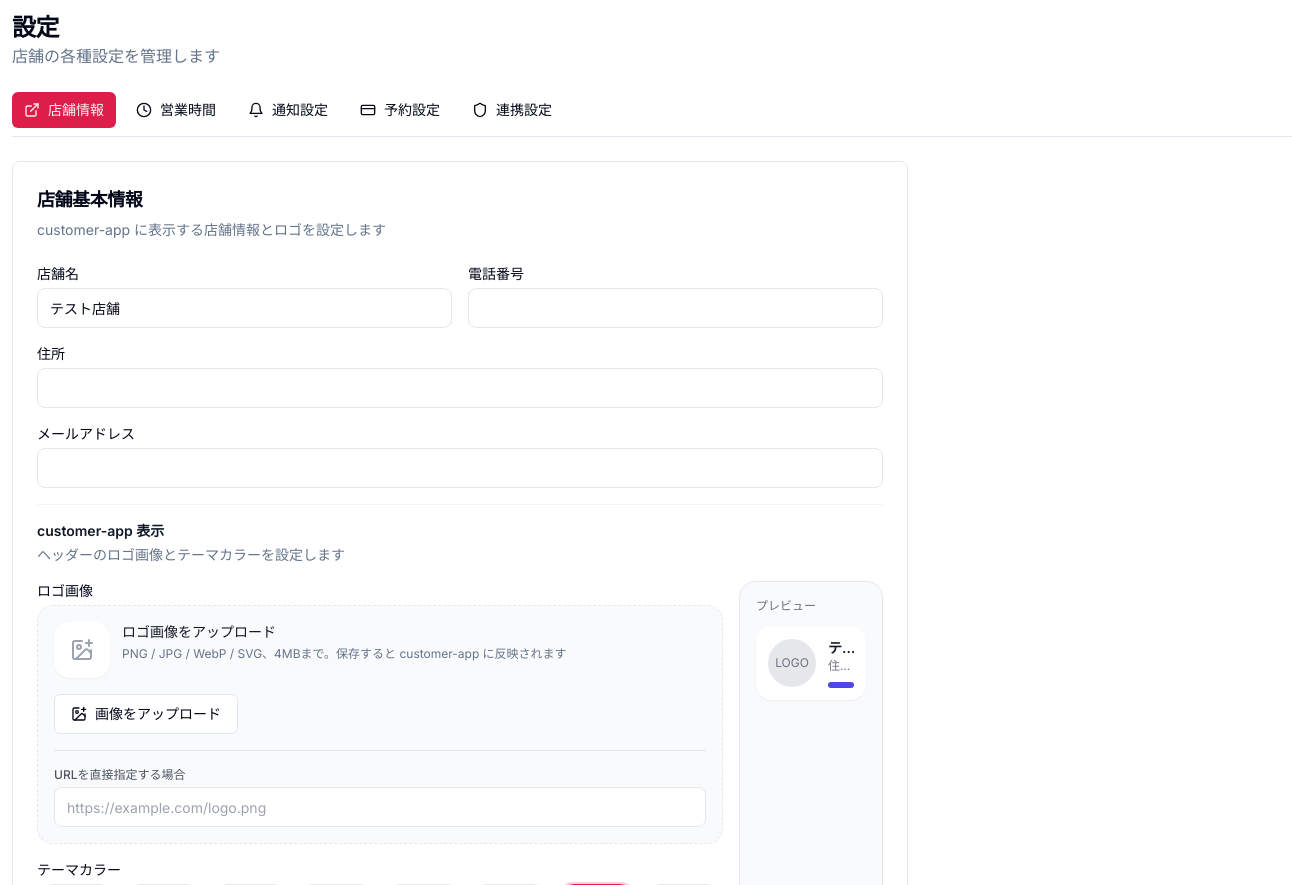
SettingsPage › 通知設定の保存失敗時にエラーバナーを表示する
The image size is (1292, 885).
Click the button "通知設定": (288, 110) left=236, top=92, right=340, bottom=128
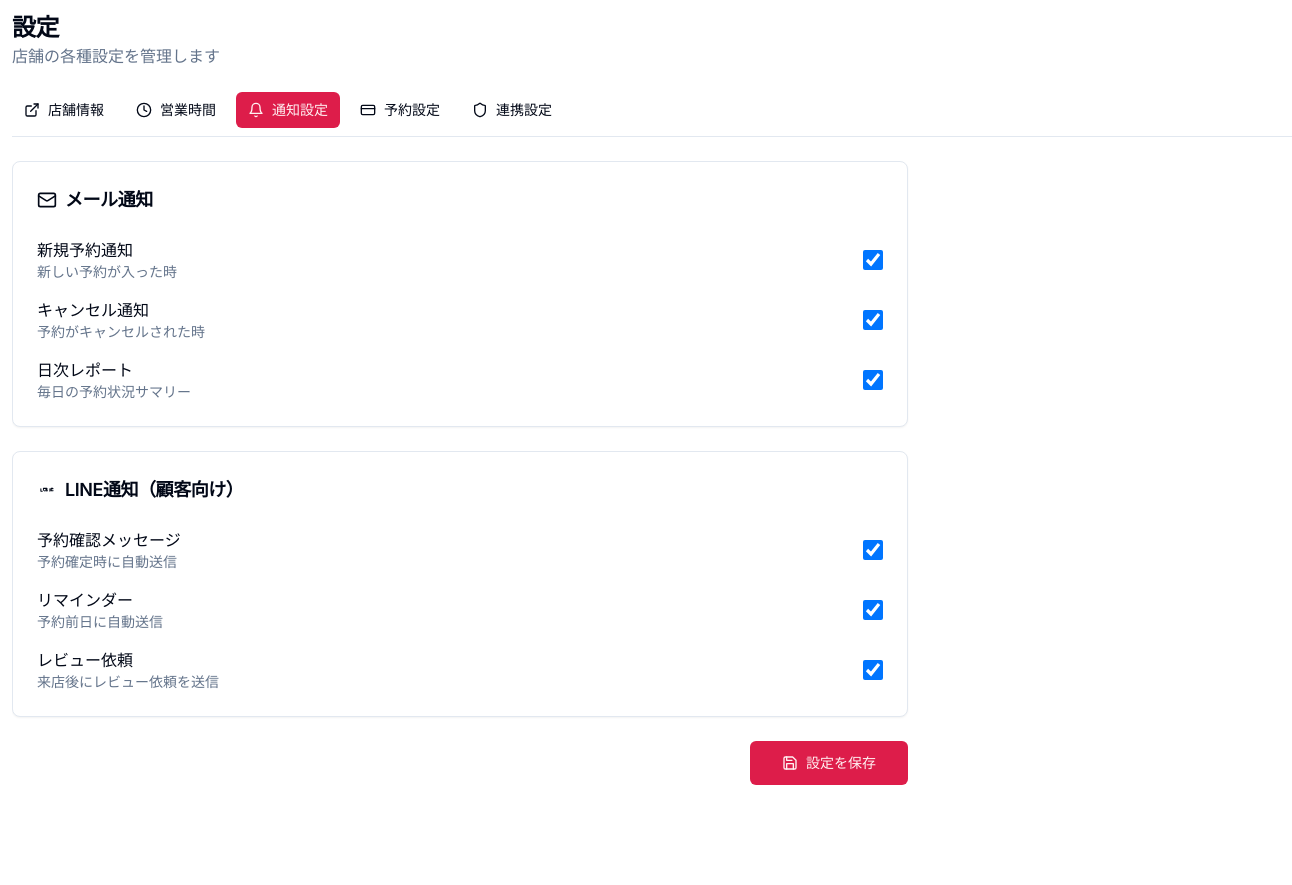
Click the button "設定を保存": (829, 763) left=750, top=741, right=908, bottom=785
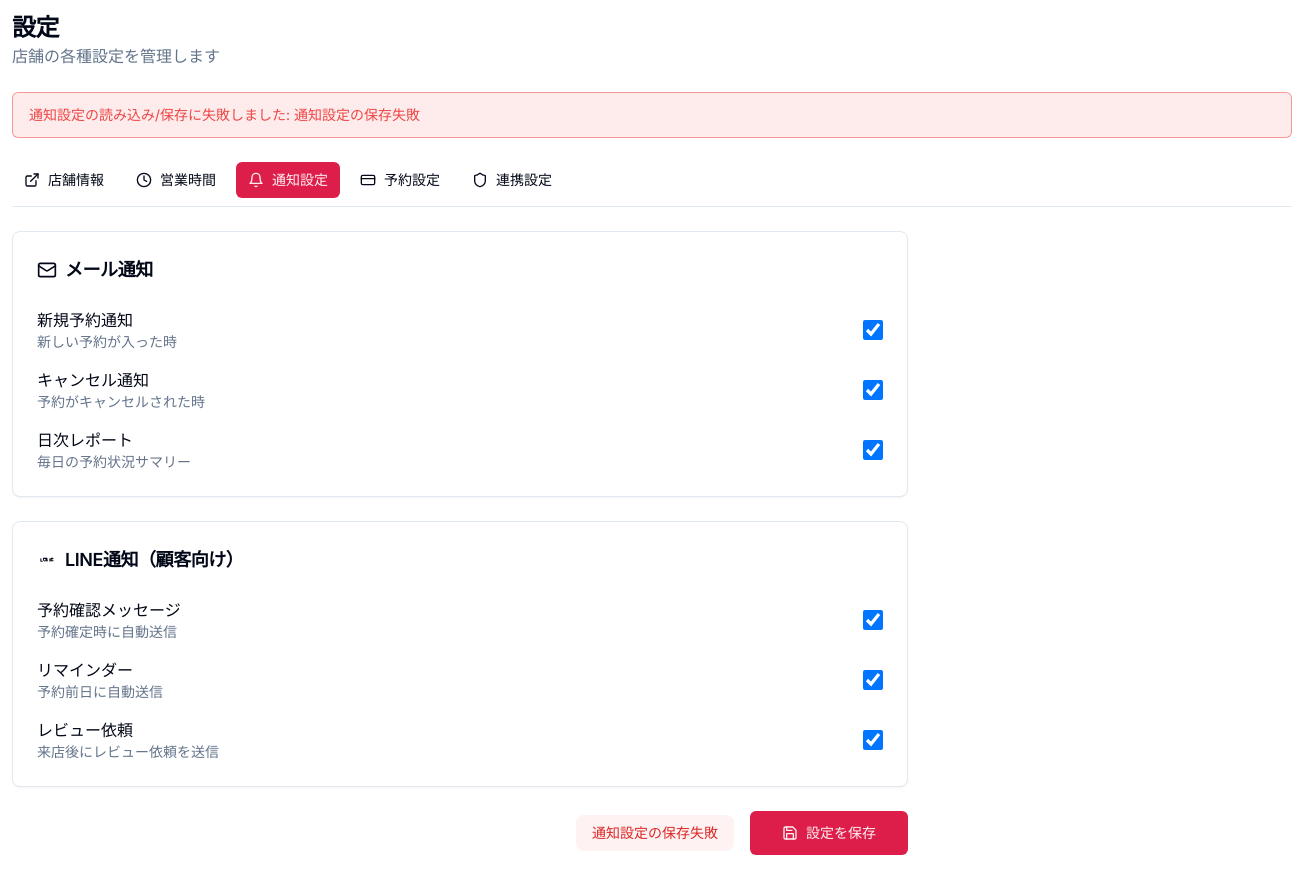
Check: the text "通知設定の読み込み/保存に失敗しました: 通知設定の保存失敗" is shown, box left=12, top=92, right=1291, bottom=138
